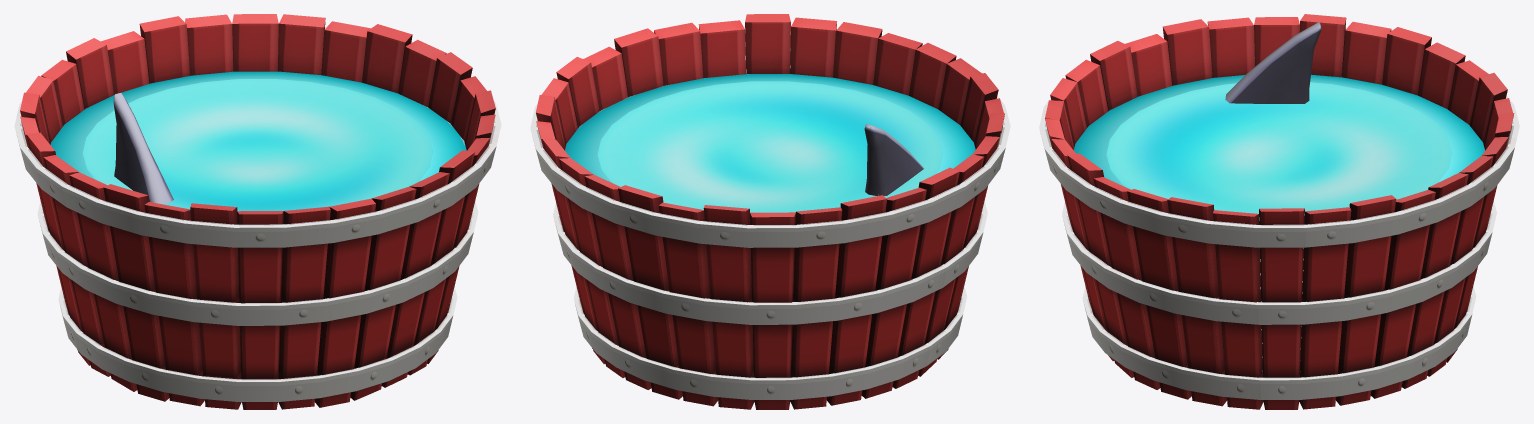
Rendered from divePool.fbx.
3 views of the same model, side by side, from view 1: azimuth 30°, elevation 25°; view 2: azimuth 150°, elevation 25°; view 3: azimuth 270°, elevation 25° (orthographic).
Parts seen in each view (by area): view 1: pool, sharkFin; view 2: pool, sharkFin; view 3: pool, sharkFin.
Part boxes in pixels (x1,y1,x2,y2): pool: (14,14,501,409); sharkFin: (113,93,173,203); pool: (530,14,1010,409); sharkFin: (864,124,924,195); pool: (1039,14,1519,409); sharkFin: (1225,22,1321,103).
Size of the model in its own units: 0.3691 by 0.2146 by 0.3709.
